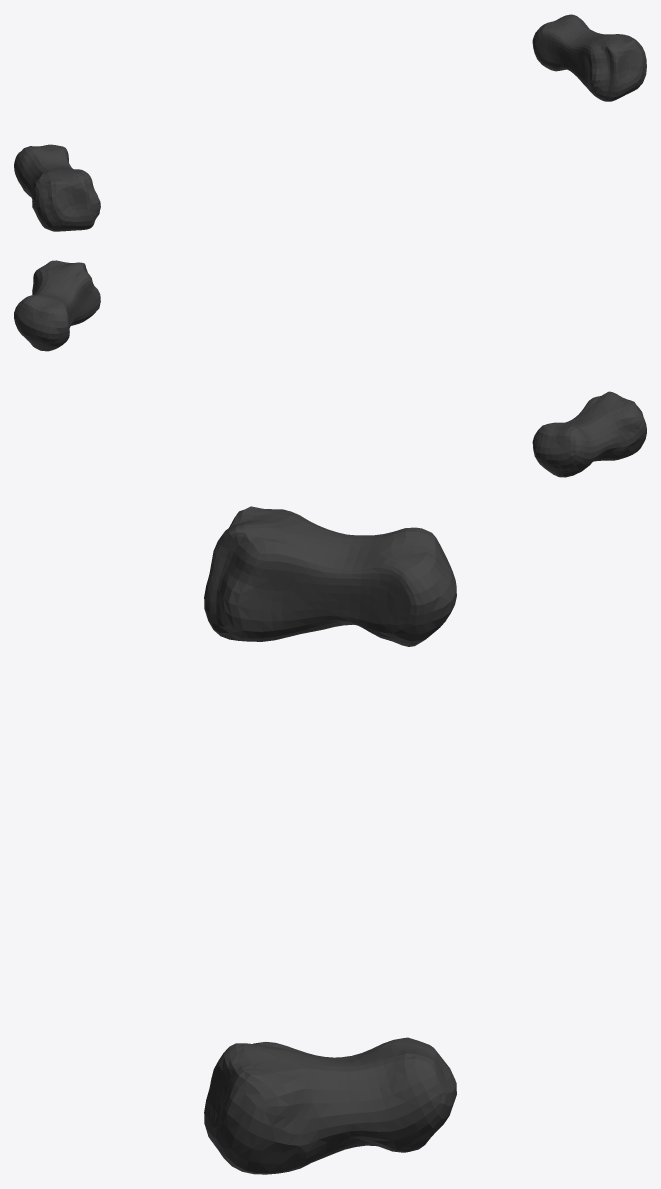
The model's file is Carpal_accessory_1.glb.
3 views of the same model, one above another, from view 1: azimuth 30°, elevation 25°; view 2: azimuth 150°, elevation 25°; view 3: azimuth 270°, elevation 25° (orthographic). The views are drawn at different scales.
Visible parts, largest first — view 1: Carpal_accessory_1; view 2: Carpal_accessory_1; view 3: Carpal_accessory_1.
Part boxes in pixels (x1,y1,x2,y2): Carpal_accessory_1: (14, 14, 646, 231); Carpal_accessory_1: (14, 260, 646, 477); Carpal_accessory_1: (204, 506, 456, 1174).
Bounding box in the file's own units: 0.00388 × 0.000342 × 0.000698.
Materials: 1 (1 with a texture image).
